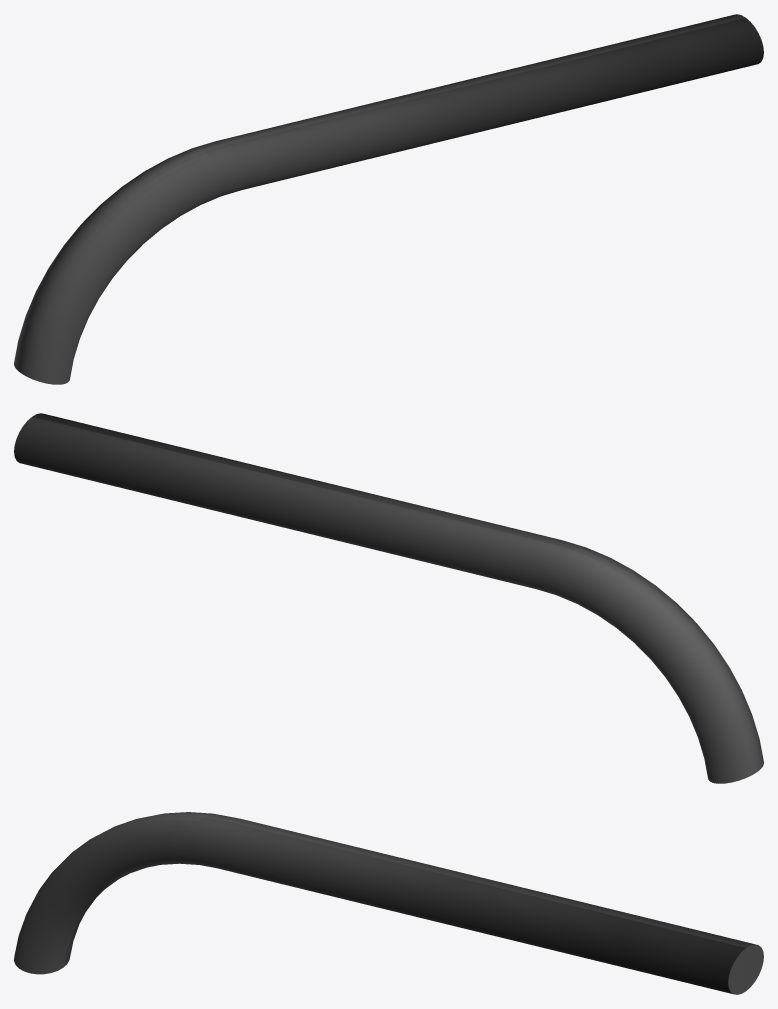
File: original-67.obj
3 renders of one model, top to bottom at view 1: azimuth 30°, elevation 25°; view 2: azimuth 150°, elevation 25°; view 3: azimuth 330°, elevation 25°, orthographic.
Visible parts, largest first — view 1: Group53/mesh82/mesh82-geometry#mesh82-geometry; view 2: Group53/mesh82/mesh82-geometry#mesh82-geometry; view 3: Group53/mesh82/mesh82-geometry#mesh82-geometry.
Part boxes in pixels (box(x1,y1,x2,y2)): Group53/mesh82/mesh82-geometry#mesh82-geometry: box(14, 14, 763, 384); Group53/mesh82/mesh82-geometry#mesh82-geometry: box(14, 413, 763, 783); Group53/mesh82/mesh82-geometry#mesh82-geometry: box(14, 812, 763, 994).
Size of the model in its own units: 0.1802 by 0.0442 by 0.0154.
Materials: 1 (1 with a texture image).
